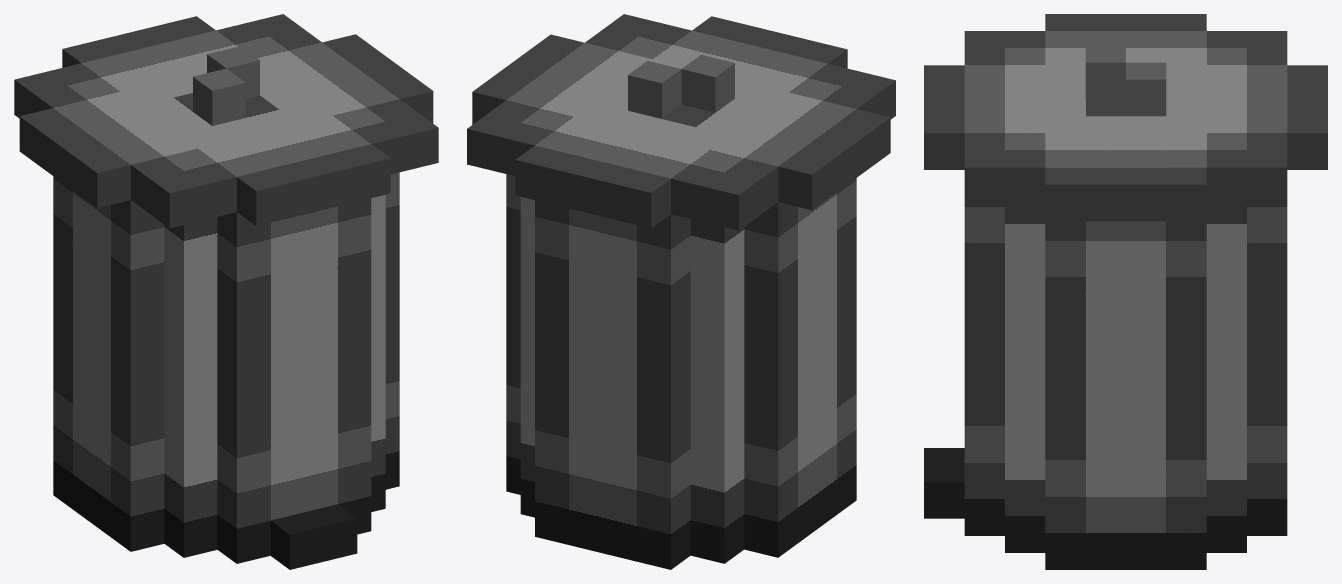
Rendered from TrashCan.dae.
3 views of the same model, side by side, from view 1: azimuth 30°, elevation 25°; view 2: azimuth 150°, elevation 25°; view 3: azimuth 270°, elevation 25° (orthographic). The views are drawn at different scales.
Parts seen in each view (by area): view 1: TrashCan; view 2: TrashCan; view 3: TrashCan.
Boxes of the visible parts, x1,y1,x2,y2 form: TrashCan: [14, 14, 438, 569]; TrashCan: [467, 14, 895, 569]; TrashCan: [924, 14, 1327, 569].
Size of the model in its own units: 10 by 12 by 10.
Materials: 1 (1 with a texture image).
